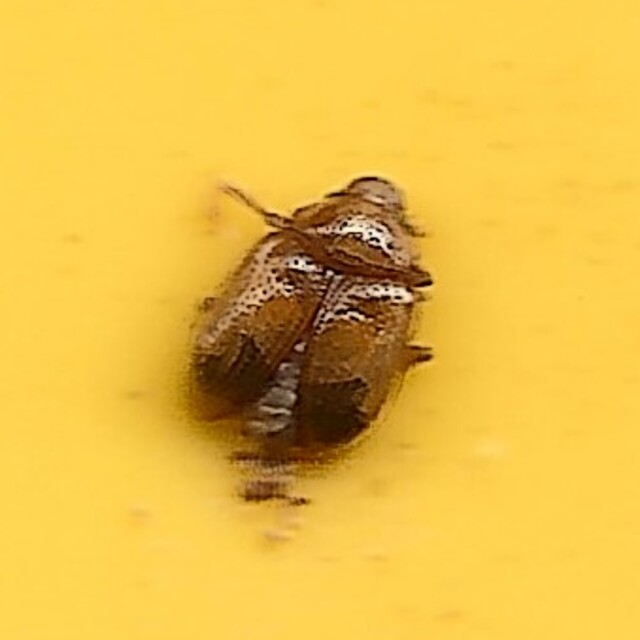Coleoptera: (189, 172, 451, 468)
